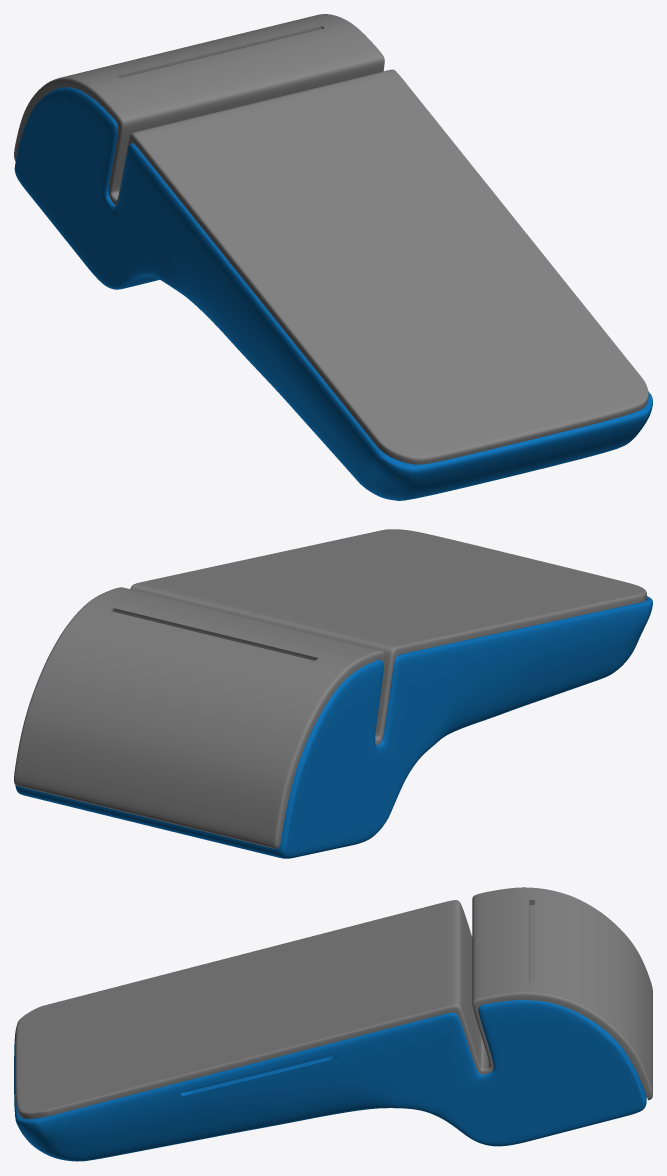
Rendered from Terminal.FBX.
The picture shows the model from 3 angles, top to bottom: view 1: azimuth 30°, elevation 25°; view 2: azimuth 150°, elevation 25°; view 3: azimuth 270°, elevation 25°; orthographic projection. The views are drawn at different scales.
Visible parts, largest first — view 1: Terminal001; view 2: Terminal001; view 3: Terminal001.
Boxes of the visible parts, x1,y1,x2,y2 form: Terminal001: [14, 14, 652, 500]; Terminal001: [14, 529, 652, 858]; Terminal001: [14, 887, 652, 1161].
Bounding box in the file's own units: 74.5 × 56.11 × 184.
